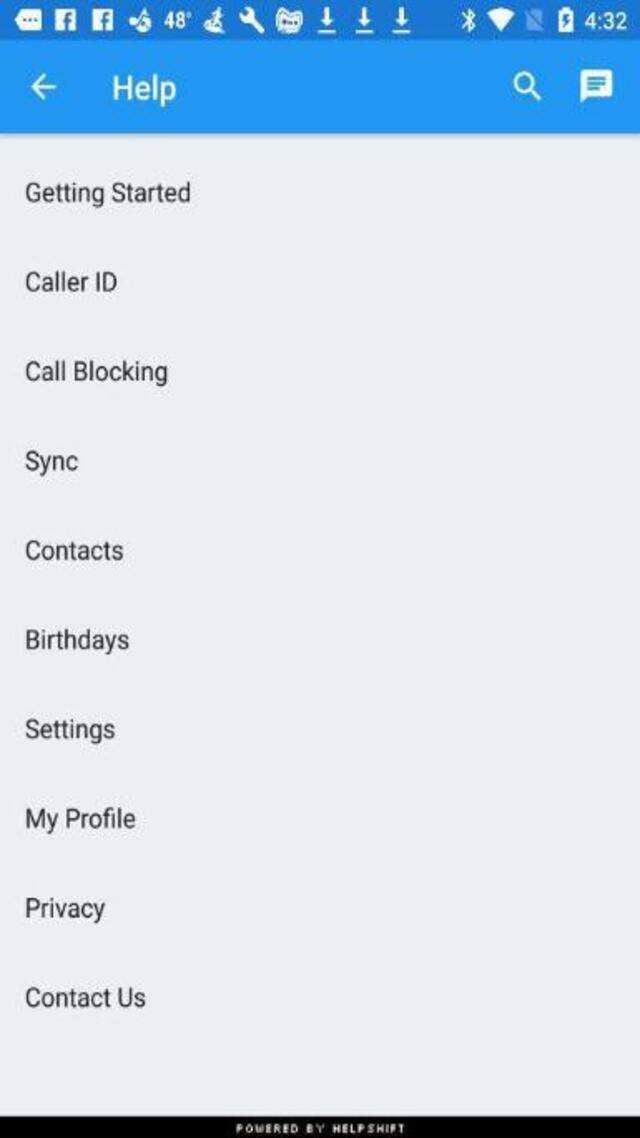Icon: (580, 69, 614, 105), (513, 70, 541, 100), (29, 73, 56, 101)
Text: (26, 180, 190, 208), (26, 360, 167, 387), (27, 806, 136, 833), (25, 627, 128, 654), (25, 986, 145, 1006), (25, 718, 115, 743), (114, 73, 176, 108), (28, 897, 106, 924), (26, 539, 124, 560), (26, 270, 117, 292), (25, 449, 78, 476)
WS3: (235, 1122, 403, 1133)
